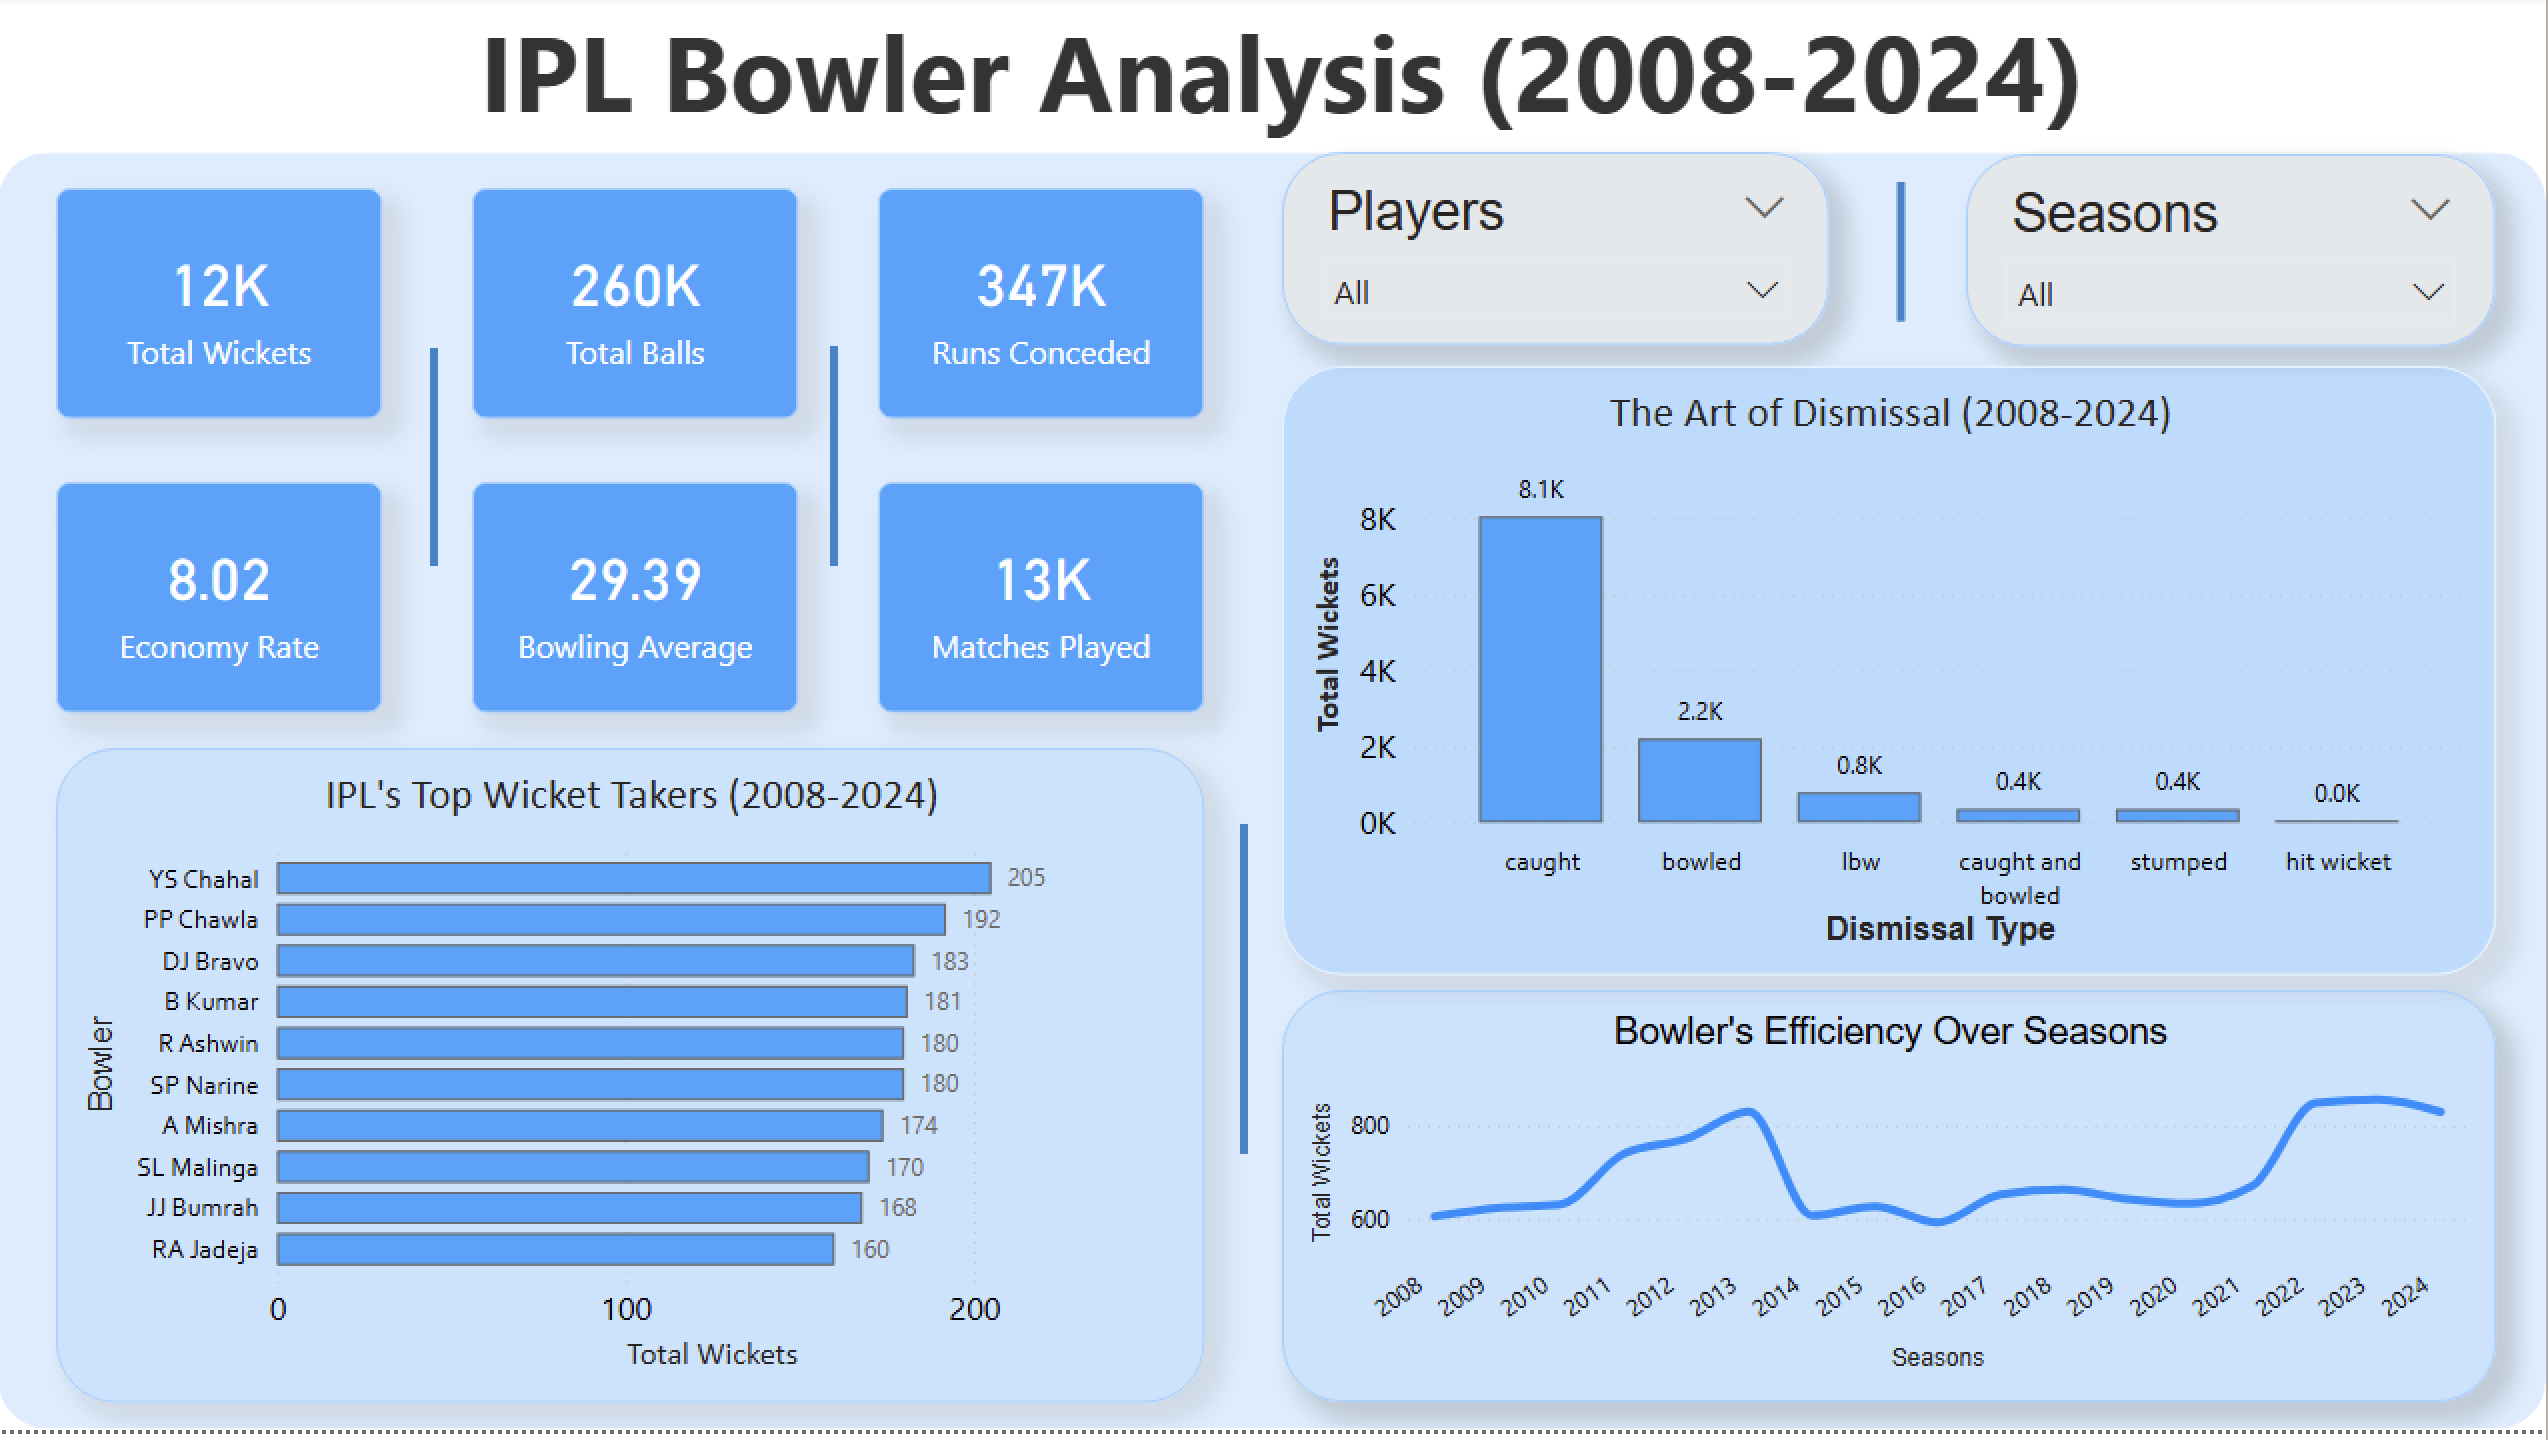

This screenshot's page, from the dashboard's own definition file:
{"tool":"powerbi","page":{"name":"Bowling Analysis","canvas":[1280,720],"ordinal":3},"visuals":[{"type":"shape","box":[0,78.5,1280,641.5],"z":0},{"type":"textbox","box":[0,0,1280.1,79.5],"z":1000},{"type":"clusteredBarChart","title":"IPL''s Top Wicket Takers (2008-2024)","fields":{"Category":["bowling_stats_improved.bowler"],"Y":["Sum(bowling_stats_improved.total_wickets)"]},"box":[29.1,377.8,576.7,328.5],"z":2000},{"type":"card","fields":{"Values":["Sum(bowling_stats_improved.total_wickets)"]},"box":[29.1,96.5,163.8,115.5],"z":3000},{"type":"card","fields":{"Values":["bowling_stats_improved.Economy Rate"]},"box":[29.1,244.1,163.8,115.5],"z":4000},{"type":"card","fields":{"Values":["Sum(bowling_stats_improved.total_balls)"]},"box":[238.1,96.5,163.8,115.5],"z":5000},{"type":"card","fields":{"Values":["bowling_stats_improved.Bowling Average"]},"box":[238.1,244.1,163.8,115.5],"z":6000},{"type":"slicer","fields":{"Values":["bowling_stats_improved.bowler"]},"box":[645,78.4,275.3,97.5],"z":7000},{"type":"slicer","fields":{"Values":["bridge table.season"]},"box":[988.6,79.4,266.2,97.5],"z":8000},{"type":"card","fields":{"Values":["Sum(bowling_stats_improved.runs_conceded)"]},"box":[442.1,96.5,163.8,115.5],"z":10000},{"type":"card","fields":{"Values":["Sum(bowling_stats_improved.matches_played)"]},"box":[442.1,244.1,163.8,115.5],"z":11000},{"type":"clusteredColumnChart","title":"The Art of Dismissal (2008-2024)","fields":{"Category":["dismissal_stats_improved.dismissal_kind"],"Y":["Sum(dismissal_stats_improved.wickets)"]},"box":[645,185.9,609.9,306.4],"z":12000},{"type":"lineChart","title":"Bowler''s Efficiency Over Seasons","fields":{"Category":["bowling_stats_improved.season"],"Y":["Sum(bowling_stats_improved.total_wickets)"]},"box":[645,499.3,609.9,207],"z":13000},{"type":"shape","box":[950.5,93.4,11.1,70.3],"z":14000},{"type":"shape","box":[413.9,175.8,12.1,110.5],"z":15000},{"type":"shape","box":[213,176.8,12.1,109.5],"z":16000},{"type":"shape","box":[619.9,415.9,12.1,165.8],"z":17000}]}

Visuals, with their boxes in screenshot pixels (x1, y1, x2, y2), scaled from the page's 1280x720 canvas onto the 2548x1440 screenshot:
shape: 0,157,2547,1439
textbox: 0,0,2547,159
"IPL''s Top Wicket Takers (2008-2024)" clusteredBarChart: 58,756,1206,1413
card - Sum(bowling_stats_improved.total_wickets): 58,193,384,424
card - bowling_stats_improved.Economy Rate: 58,488,384,719
card - Sum(bowling_stats_improved.total_balls): 474,193,800,424
card - bowling_stats_improved.Bowling Average: 474,488,800,719
slicer - bowling_stats_improved.bowler: 1284,157,1832,352
slicer - bridge table.season: 1968,159,2498,354
card - Sum(bowling_stats_improved.runs_conceded): 880,193,1206,424
card - Sum(bowling_stats_improved.matches_played): 880,488,1206,719
"The Art of Dismissal (2008-2024)" clusteredColumnChart: 1284,372,2498,985
"Bowler''s Efficiency Over Seasons" lineChart: 1284,999,2498,1413
shape: 1892,187,1914,327
shape: 824,352,848,573
shape: 424,354,448,573
shape: 1234,832,1258,1163
